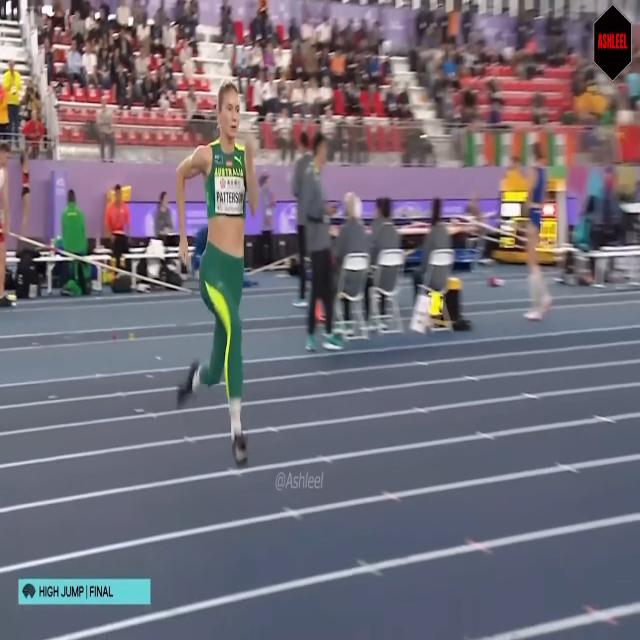run: (175, 70, 258, 470)
